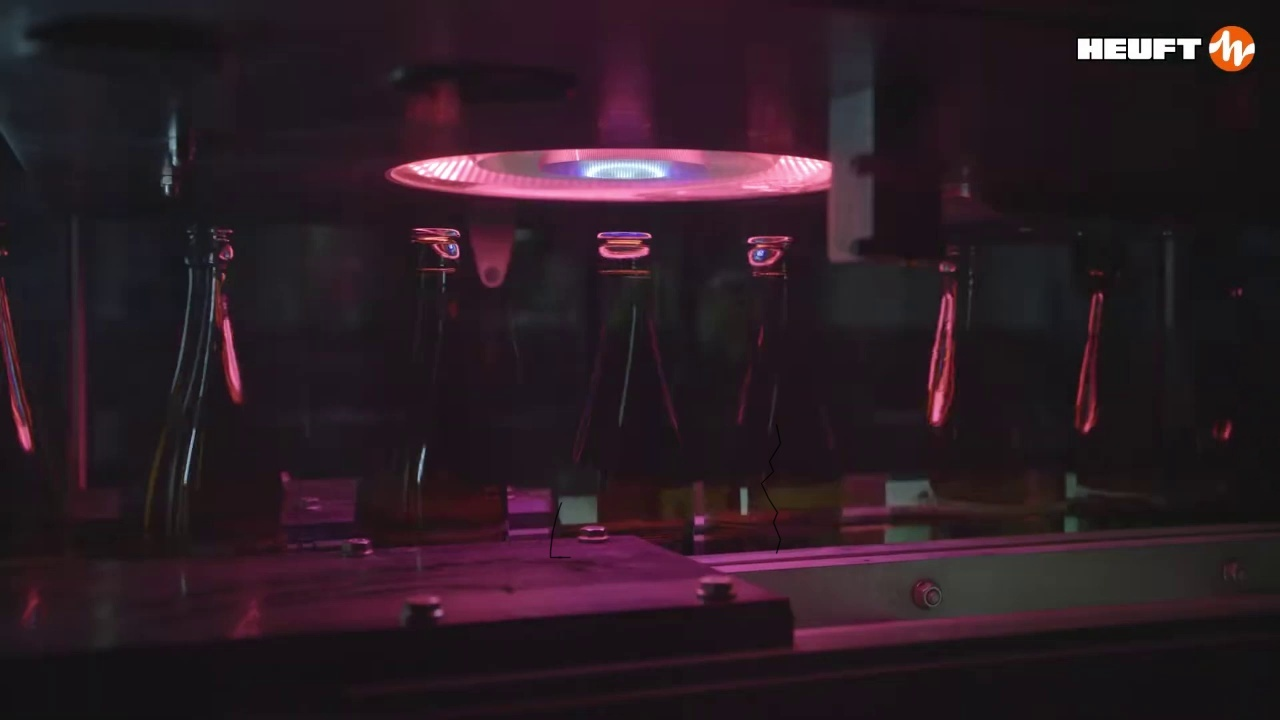bottle: (549, 233, 694, 555)
crack: (761, 424, 780, 553), (550, 502, 570, 557)
